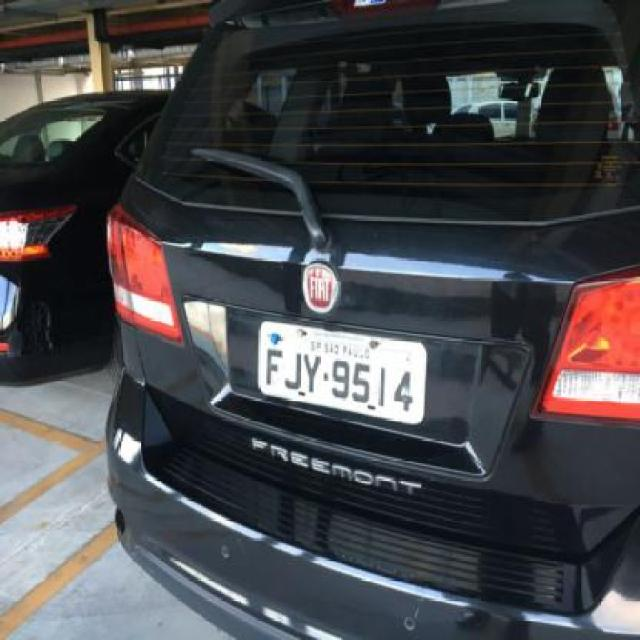old_plate: (254, 317, 432, 431)
